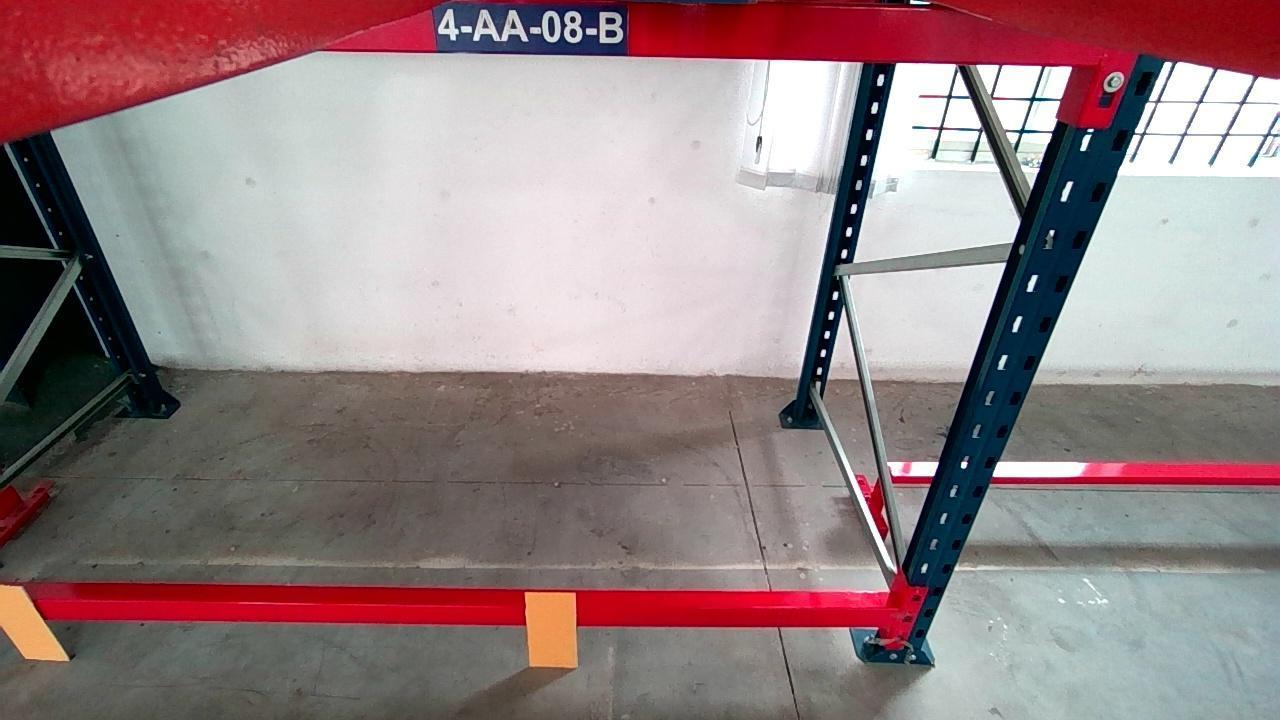h_rack: (33, 601, 897, 627)
orange_strip: (0, 583, 71, 660), (524, 592, 577, 668)
